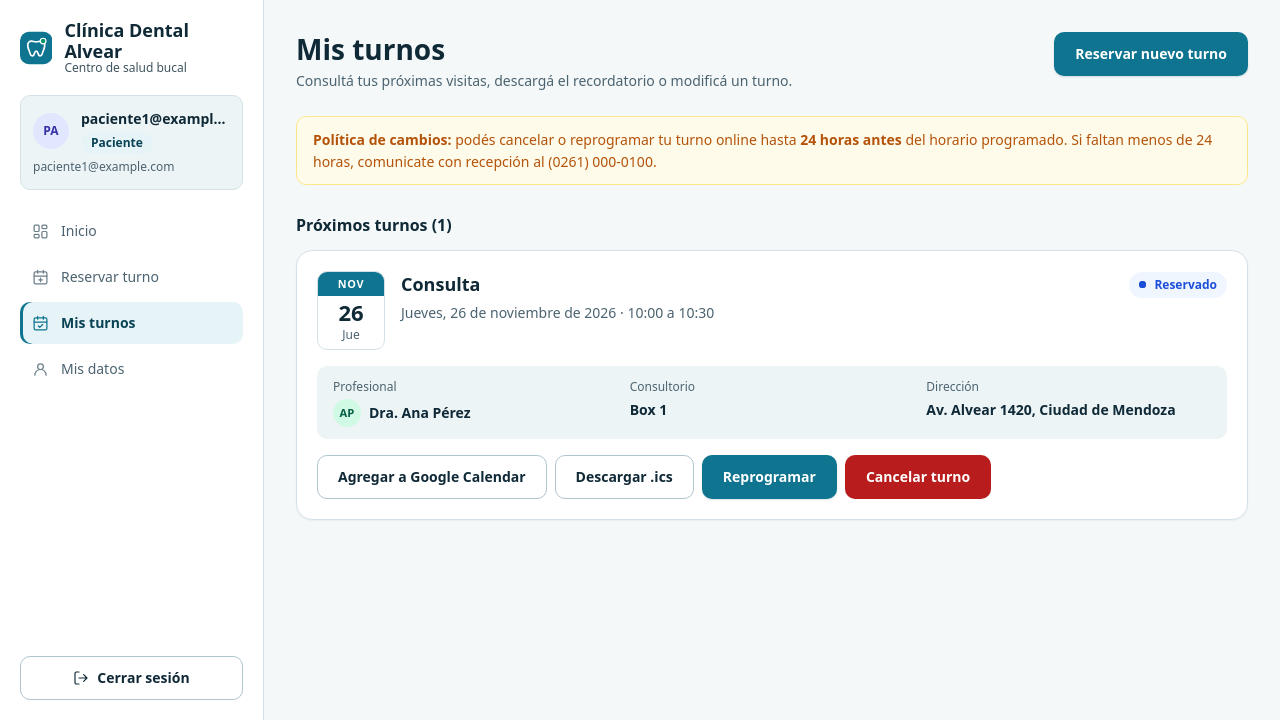
Scenario: web-paciente (C-14) › deshabilita la acción inmediatamente si el backend responde 409 PLAZO_VENCIDO al cancelar
The width and height of the screenshot is (1280, 720).
Click the button "Cancelar turno": (918, 477) [845,455,991,499]
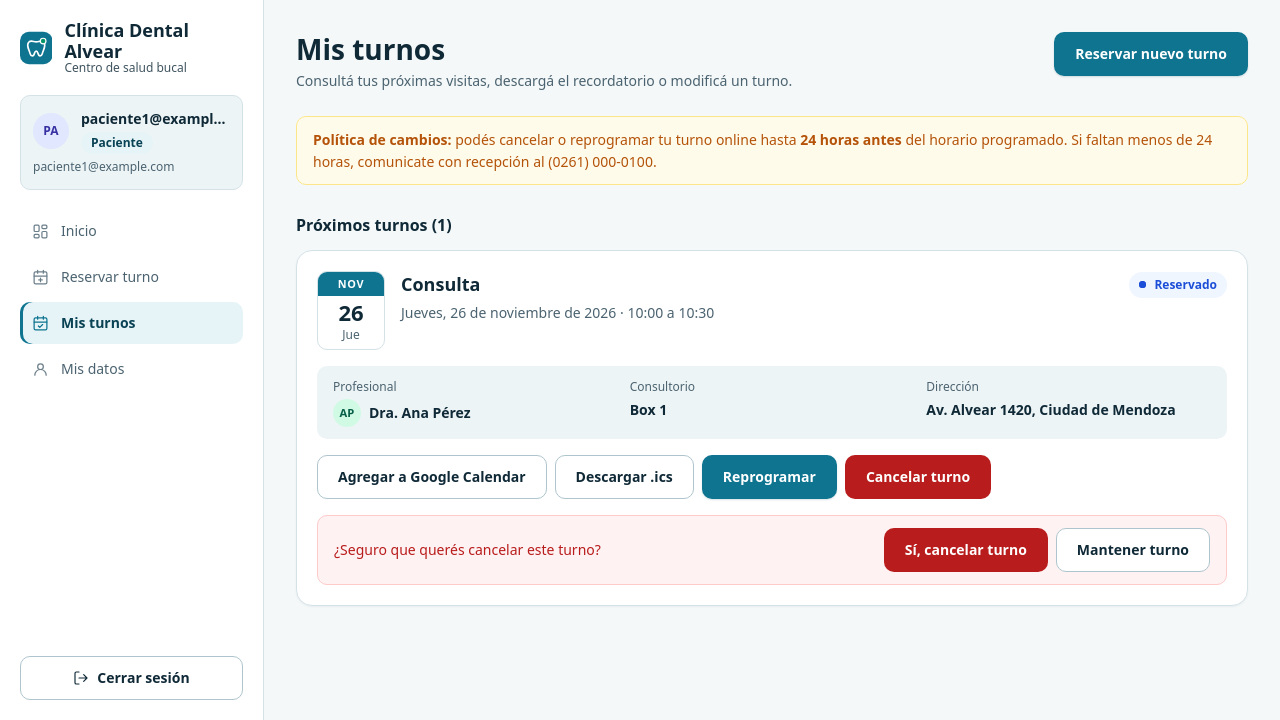
Click the button "Sí, cancelar turno": (966, 550) [884,528,1048,572]
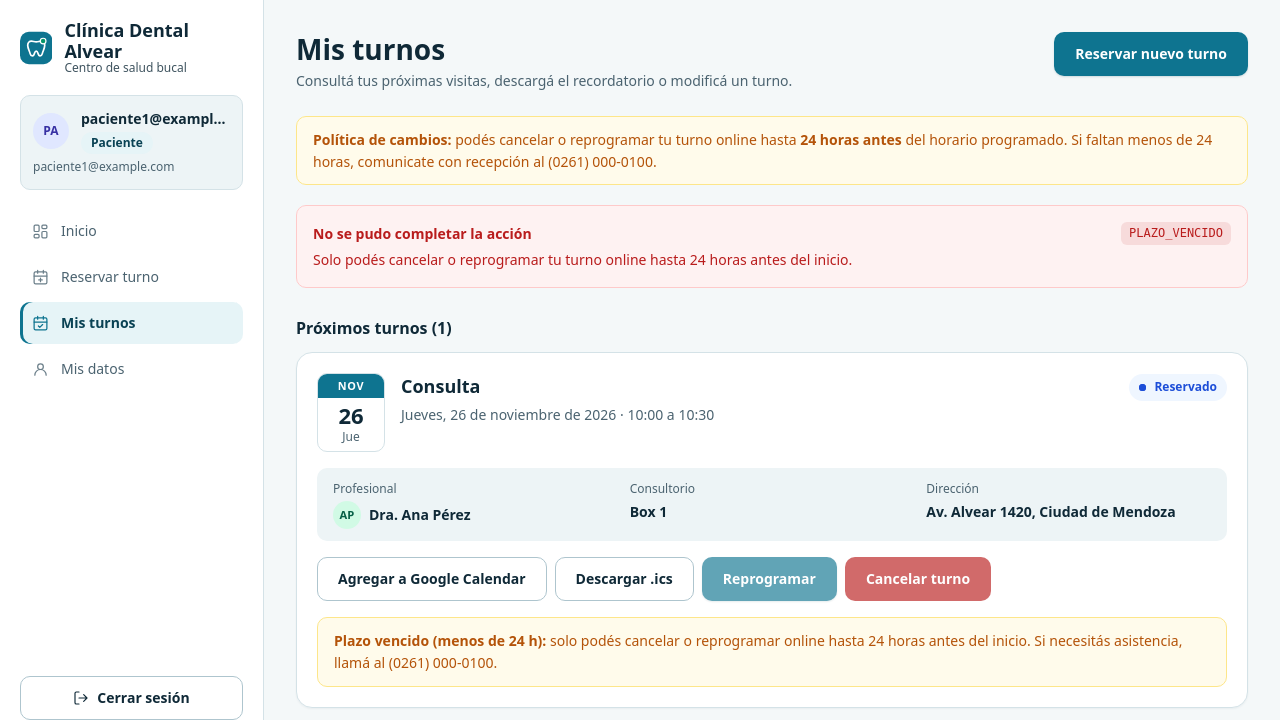
Now the text "PLAZO_VENCIDO" is shown, box [1121,222,1231,245]
Now the button "Cancelar turno" is disabled, box [845,557,991,601]
Now the button "Reprogramar" is disabled, box [702,557,837,601]
